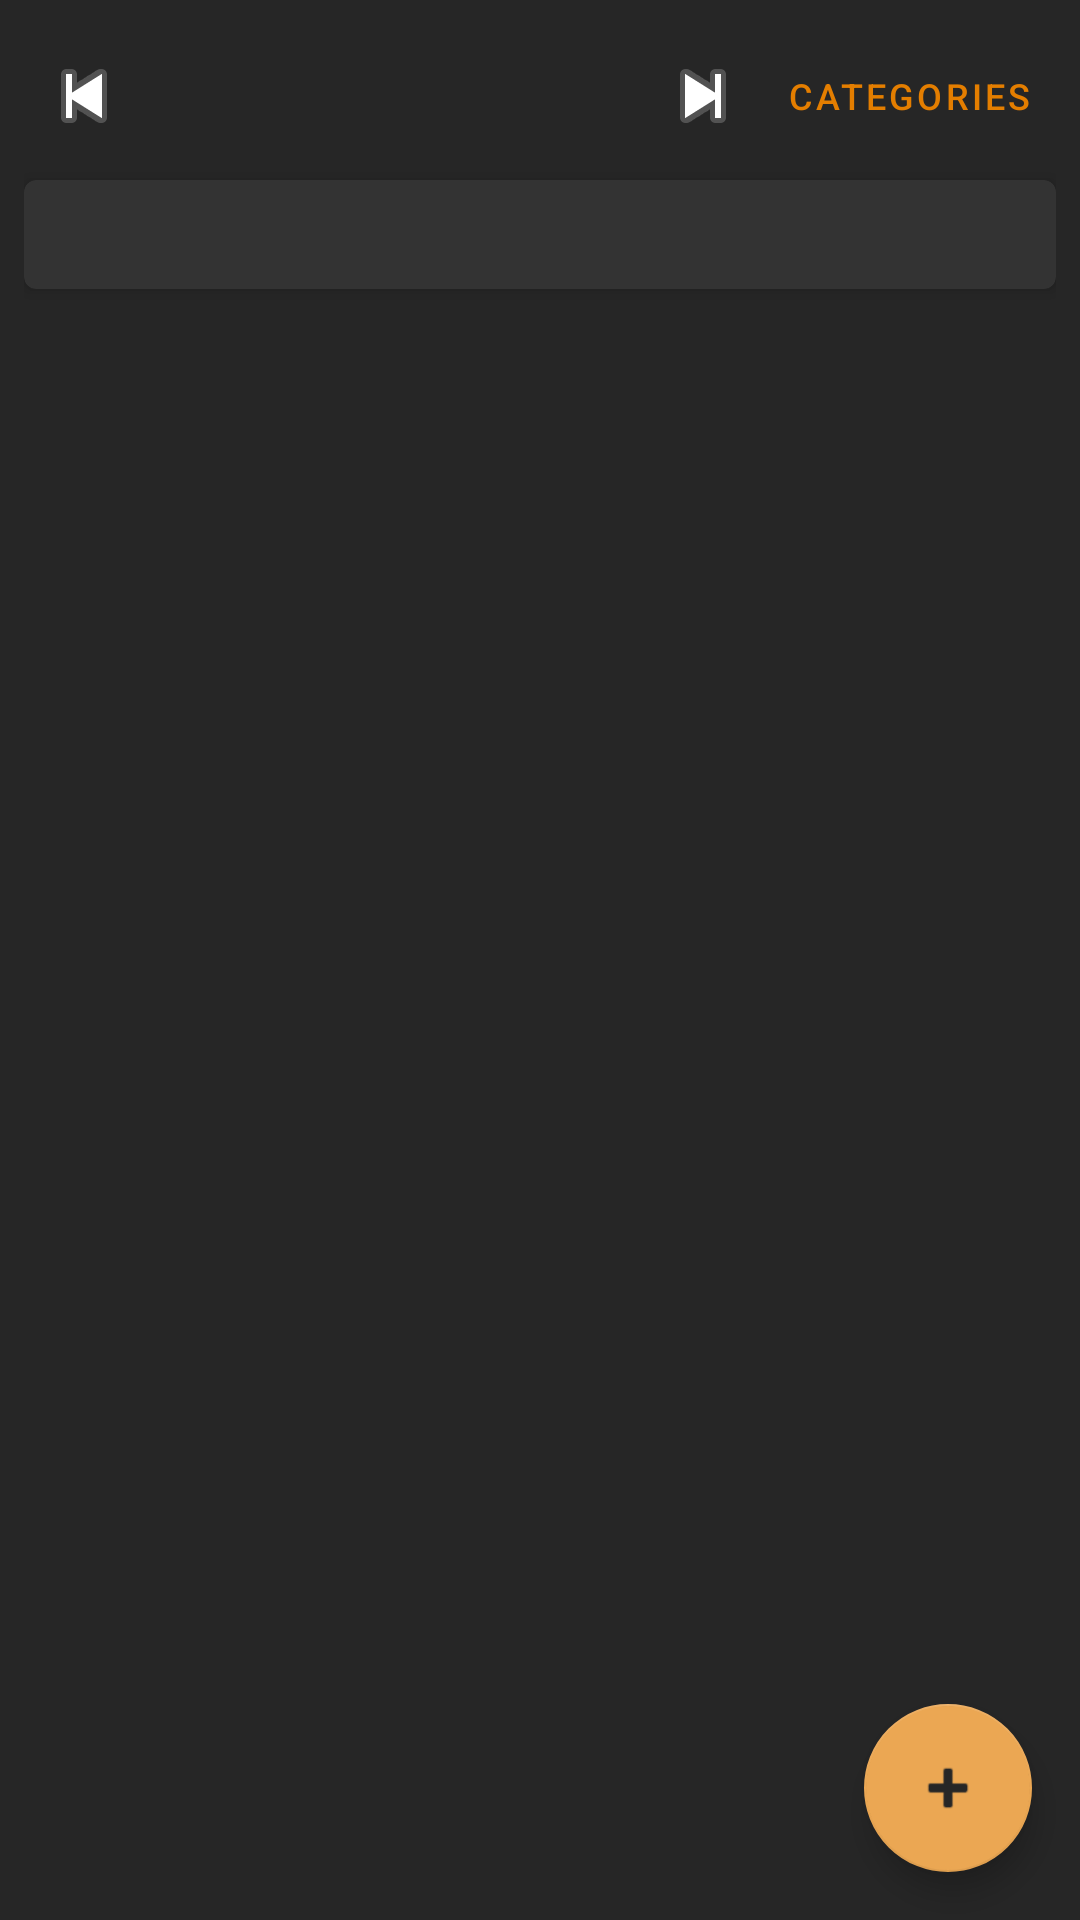

Icon bounding boxes for this 1080 × 1920 phone screenshot, format box=[x1, y1, x2, y2]:
Add entry: box=[864, 1704, 1032, 1872]
Next month: box=[680, 69, 726, 123]
Previous month: box=[61, 69, 107, 123]
